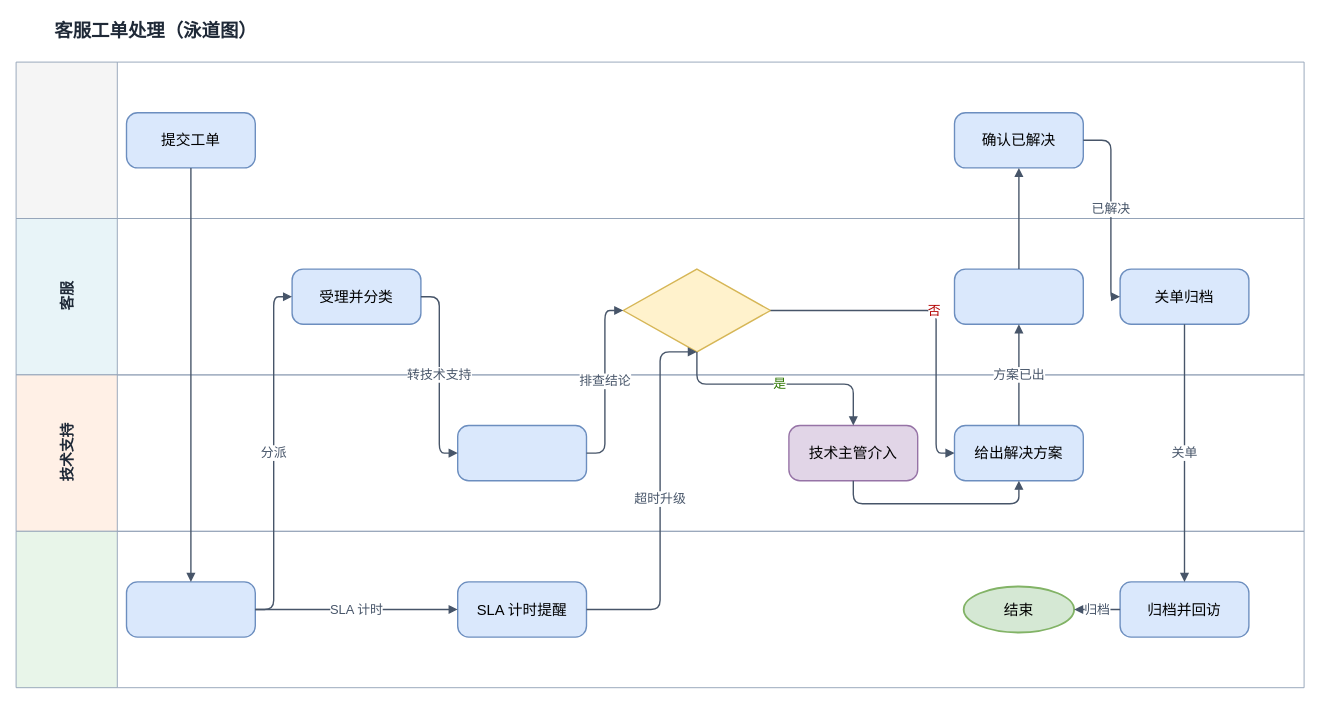
The diagram is 1320 pixels wide and 704 high, and some of its shapes have lost their labels. Here are the shapes that lost their labels. From the top down, the box of each, then its label:
(15, 61, 1304, 218): 用户
(622, 268, 771, 352): 是否需升级?
(953, 268, 1084, 325): 回复用户
(457, 424, 587, 481): 技术排查
(125, 581, 256, 637): 自动分派工单
(15, 530, 1304, 688): 系统
